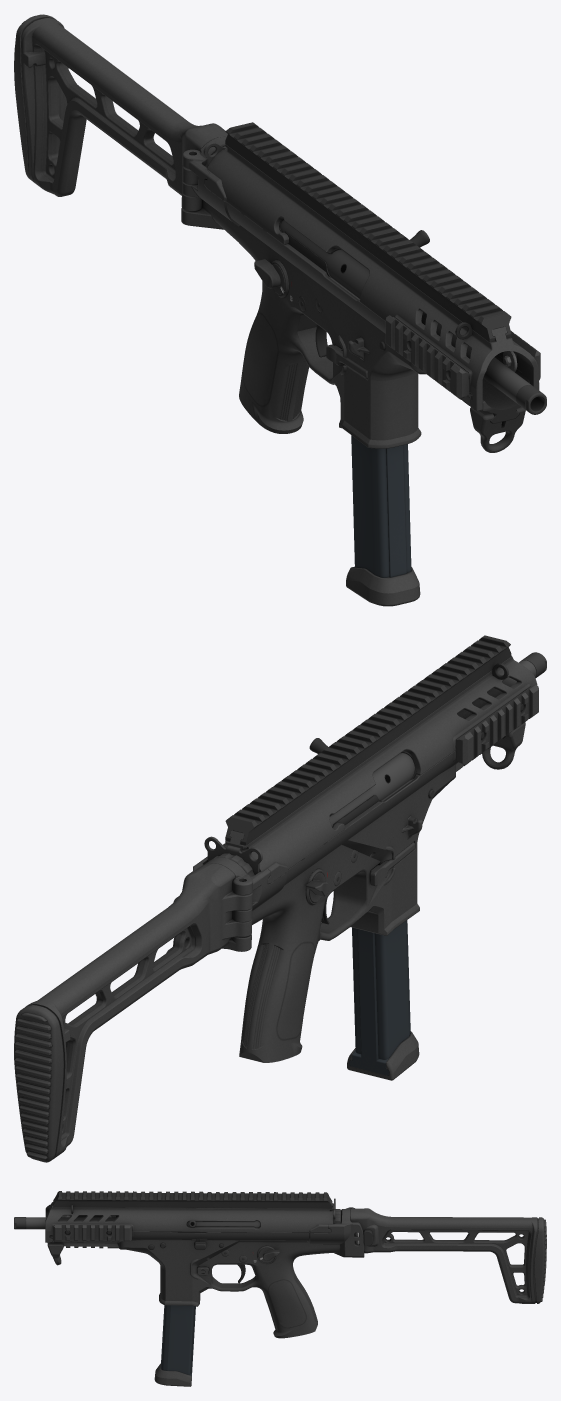
File: beretta_pmx_pmxs_sportiva_nero.glb
3 views of the same model, one above another, from view 1: azimuth 30°, elevation 25°; view 2: azimuth 150°, elevation 25°; view 3: azimuth 270°, elevation 25° (orthographic). The views are drawn at different scales.
Visible parts, largest first — view 1: pmx_pmxs_sportiva_nero_0; view 2: pmx_pmxs_sportiva_nero_0; view 3: pmx_pmxs_sportiva_nero_0.
Part boxes in pixels (x1,y1,x2,y2): pmx_pmxs_sportiva_nero_0: (14,14,546,606); pmx_pmxs_sportiva_nero_0: (14,635,546,1162); pmx_pmxs_sportiva_nero_0: (14,1191,546,1386).
Size of the model in its own units: 7.49 by 24.79 by 64.18.
Materials: 2 (2 with a texture image).
